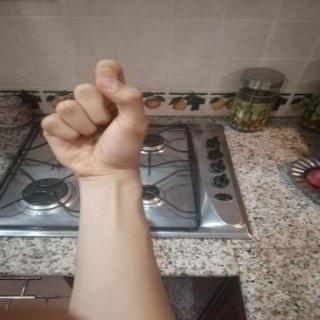FAA: (30, 53, 157, 185)
